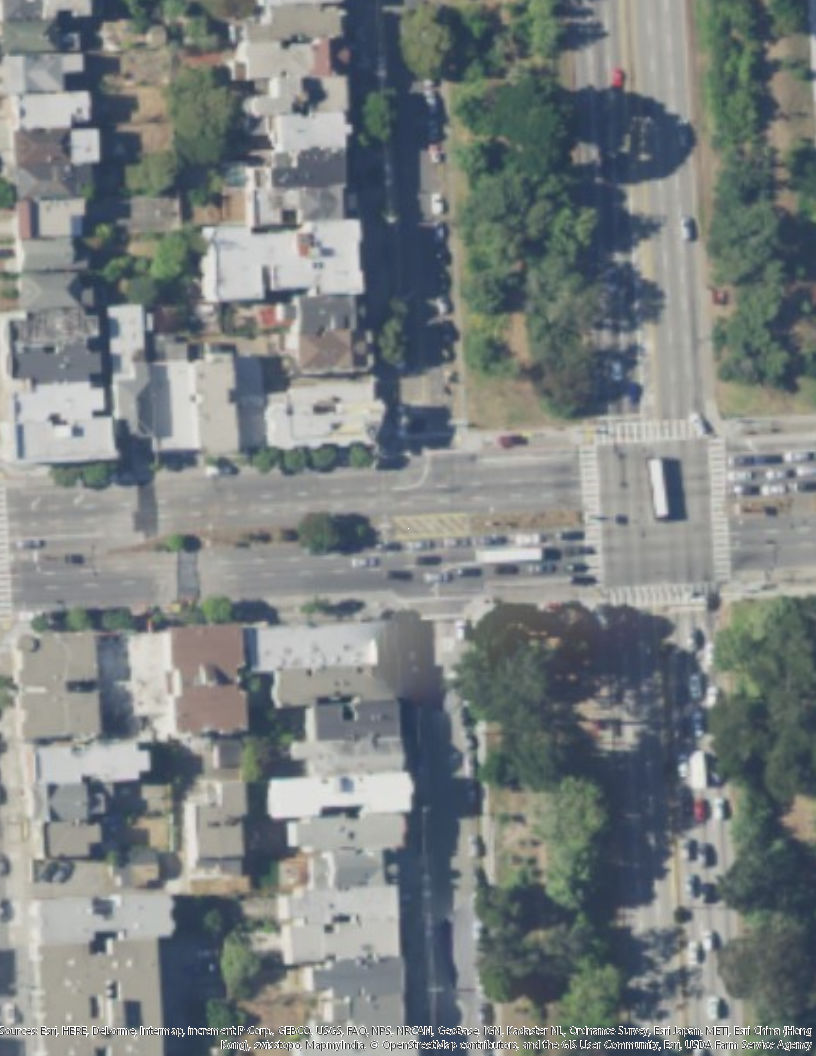zebracross: (579, 442, 605, 585), (602, 416, 712, 446), (710, 433, 730, 584), (607, 580, 711, 607)
